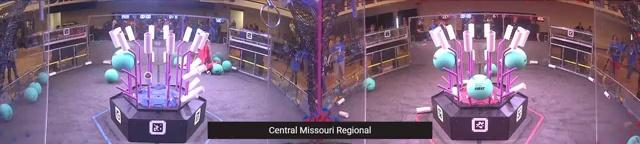reef: (427, 22, 531, 141), (113, 25, 209, 143)
robot: (195, 40, 224, 78)
